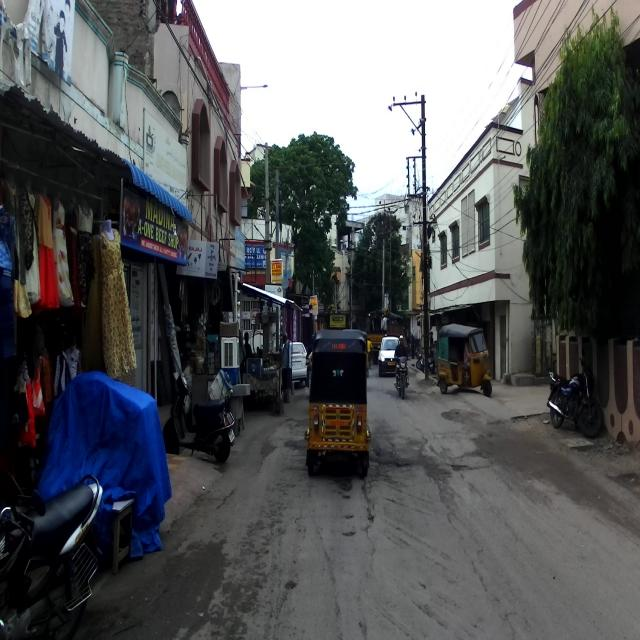autorickshaw: (304, 332, 371, 479), (436, 323, 492, 398)
motorcycle: (0, 469, 103, 639), (546, 357, 603, 439), (396, 354, 411, 397)
scooter: (162, 371, 235, 465)
